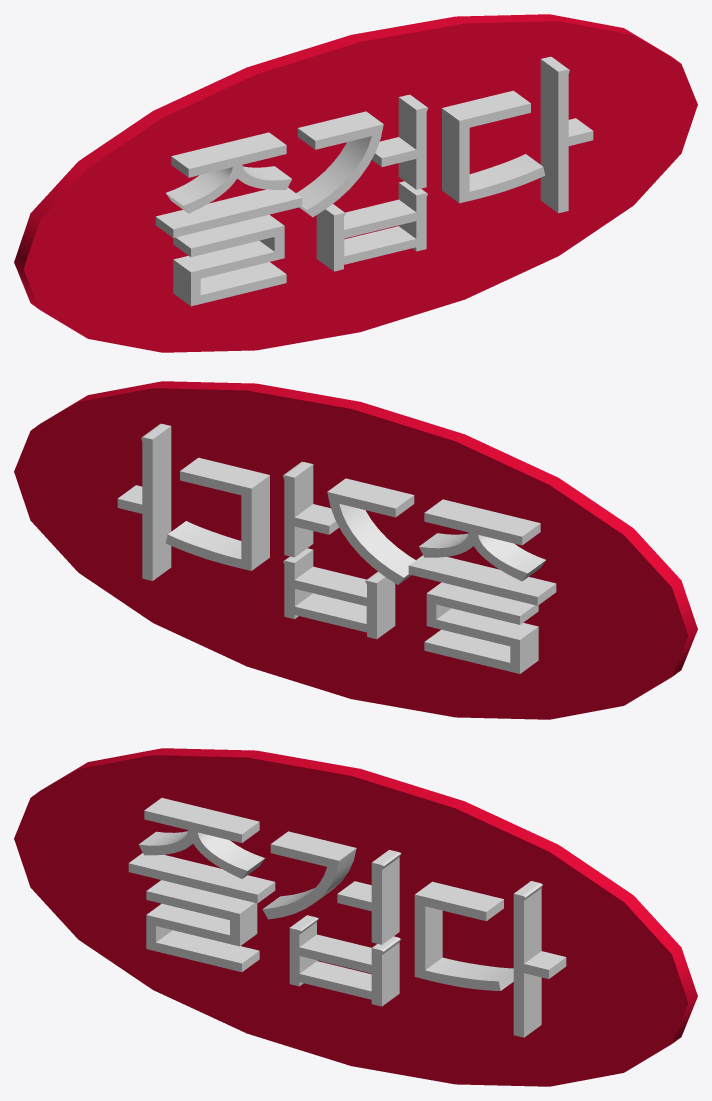
File: 즐겁다.fbx
The picture shows the model from 3 angles, top to bottom: view 1: azimuth 30°, elevation 25°; view 2: azimuth 150°, elevation 25°; view 3: azimuth 330°, elevation 25°; orthographic projection.
Visible parts, largest first — view 1: pCylinder2; view 2: pCylinder2; view 3: pCylinder2.
Boxes of the visible parts, bbox=[...] form: pCylinder2: bbox=[14, 14, 697, 352]; pCylinder2: bbox=[14, 381, 697, 719]; pCylinder2: bbox=[14, 748, 697, 1086].
Bounding box in the file's own units: 139 × 57.04 × 16.23.
